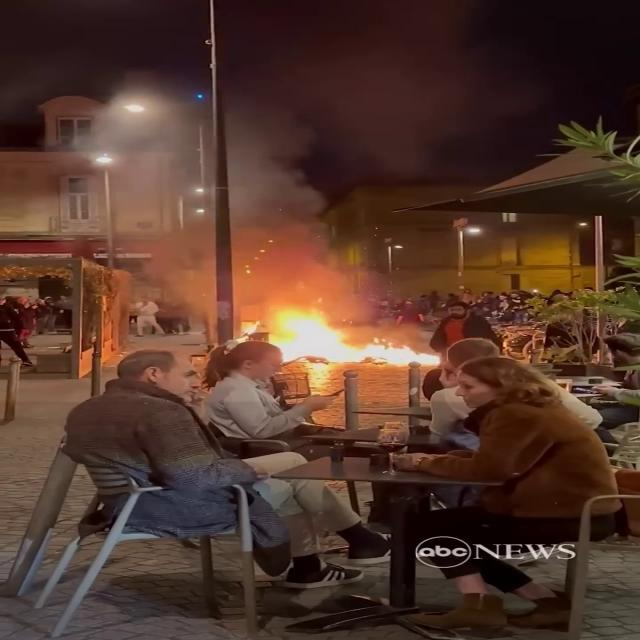Fire: (241, 298, 433, 369)
Smoke: (132, 1, 474, 301)
